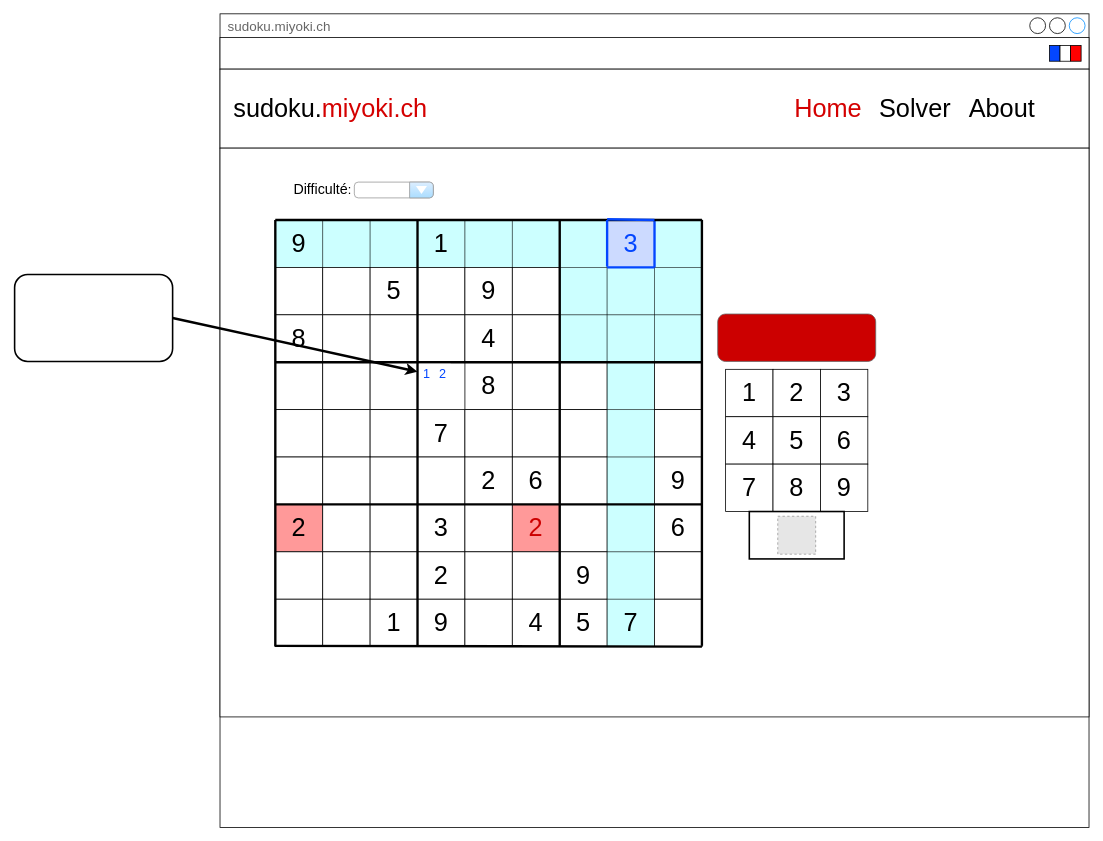
Image size: 1103x841. Some labels were removed from this diagram. Grey dashed boxes stand in for pictures. Here are the shapes that lost their labels. From the top down, the centre of each, then its label:
point 393,189: Facile
point 93,317: Exemple du mode notes
point 796,337: Nouvelle partie
